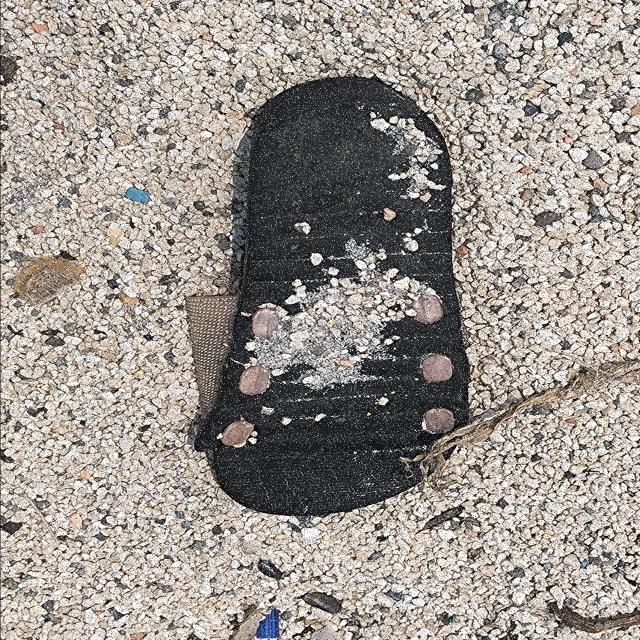rubber_waste: (195, 77, 471, 517)
